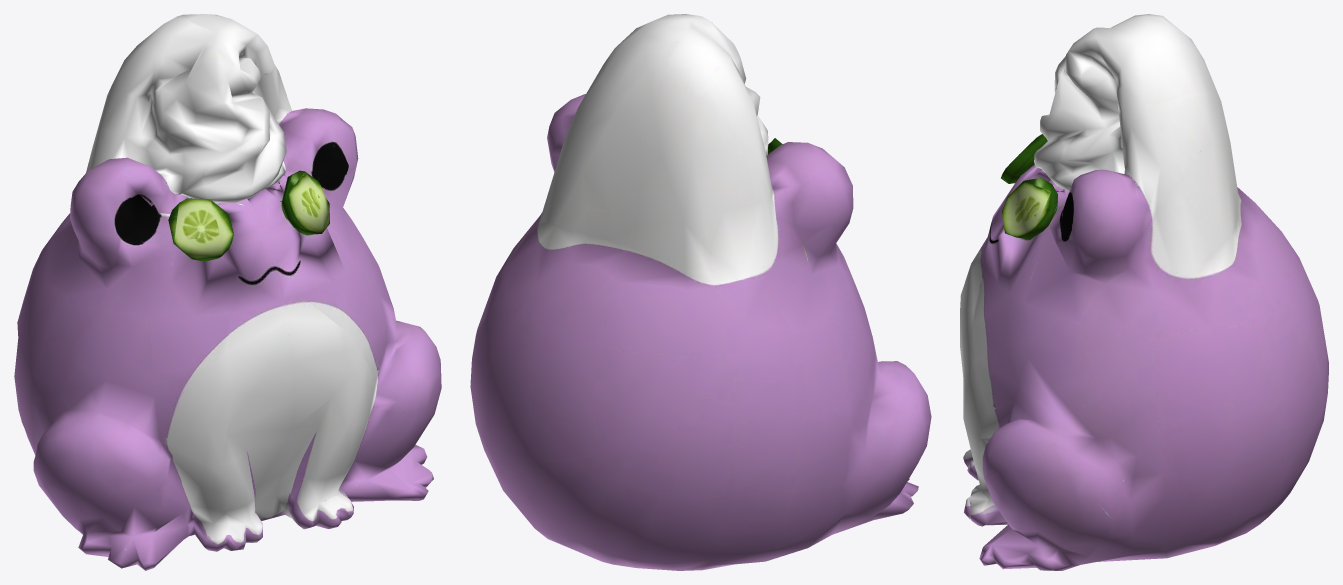
File: archere.glb
The picture shows the model from 3 angles, left to right: view 1: azimuth 30°, elevation 25°; view 2: azimuth 150°, elevation 25°; view 3: azimuth 270°, elevation 25°; orthographic projection. The views are drawn at different scales.
Visible parts, largest first — view 1: mesh_node; view 2: mesh_node; view 3: mesh_node.
Part boxes in pixels (box(x1,y1,x2,y2)): mesh_node: box(14, 14, 441, 570); mesh_node: box(470, 14, 931, 570); mesh_node: box(960, 14, 1328, 570).
Bounding box in the file's own units: 1.7 × 1.9 × 1.35.
Materials: 1 (1 with a texture image).
